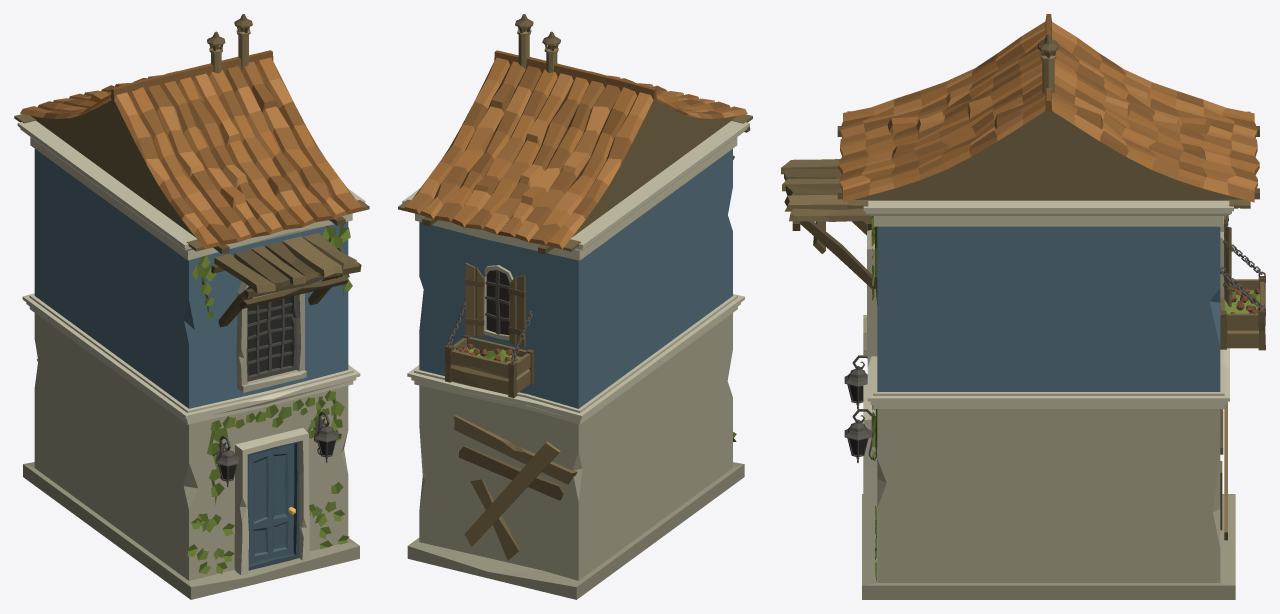
File: Building_11.fbx
The picture shows the model from 3 angles, left to right: view 1: azimuth 30°, elevation 25°; view 2: azimuth 150°, elevation 25°; view 3: azimuth 270°, elevation 25°; orthographic projection. The views are drawn at different scales.
Parts seen in each view (by area): view 1: Building_11; view 2: Building_11; view 3: Building_11.
Boxes of the visible parts, box(x1,y1,x2,y2) form: Building_11: box(14, 14, 369, 599); Building_11: box(398, 14, 752, 599); Building_11: box(781, 14, 1265, 599).
Bounding box in the file's own units: 371 × 964 × 777.
